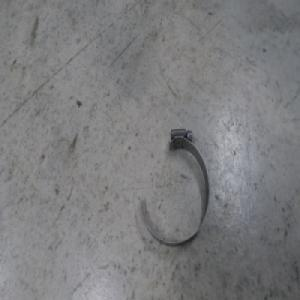AdjustableClamp: (138, 131, 210, 249)
